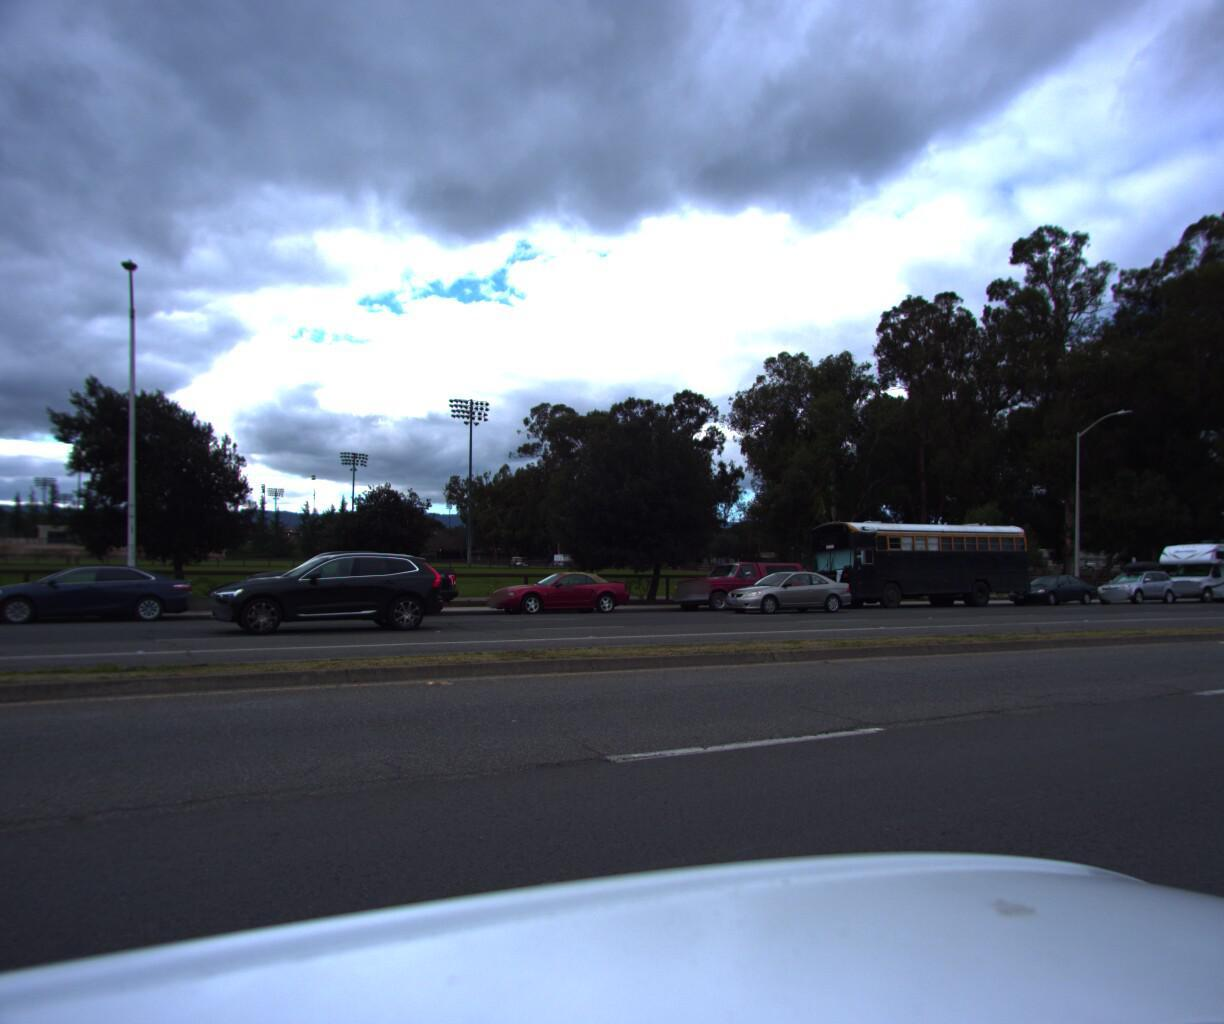bus: (792, 509, 1037, 607)
car: (192, 546, 450, 637), (225, 545, 466, 620), (0, 561, 196, 626), (661, 555, 816, 610), (477, 565, 639, 612), (714, 565, 857, 616), (1080, 556, 1182, 599), (999, 568, 1102, 601)
other_vehicle: (1139, 532, 1224, 599)
